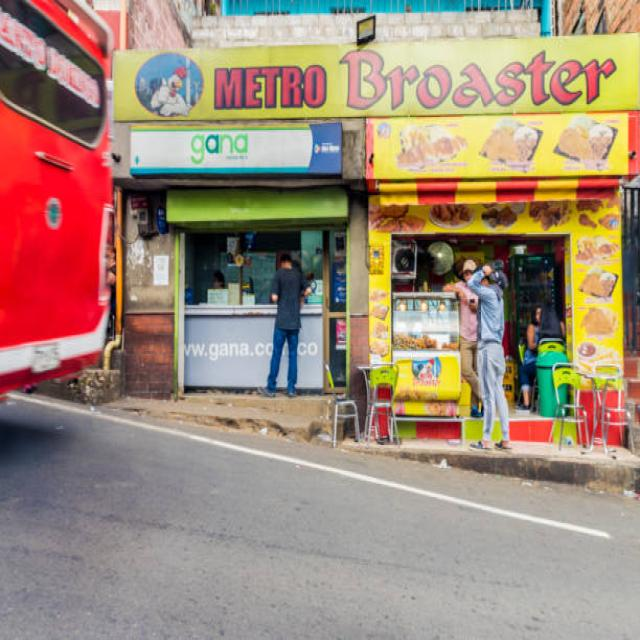Emperan: (357, 106, 640, 450)
